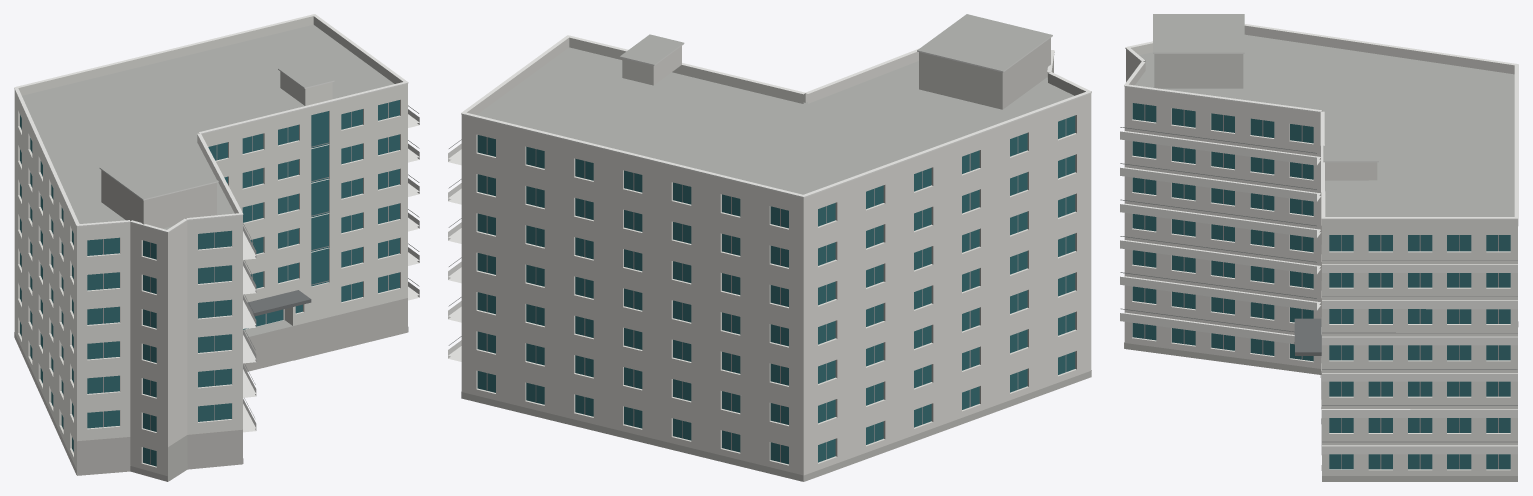
3 views of the same model, side by side, from view 1: azimuth 30°, elevation 25°; view 2: azimuth 150°, elevation 25°; view 3: azimuth 270°, elevation 25° (orthographic). The views are drawn at different scales.
Parts seen in each view (by area): view 1: industryTech__wall, industryTech__roof, industryTech__glass, industryTech__base, industryTech__parapet, industryTech__trim, industryTech__wall2, industryTech__frame, industryTech__canopy; view 2: industryTech__wall, industryTech__roof, industryTech__glass, industryTech__parapet, industryTech__trim, industryTech__wall2, industryTech__base, industryTech__frame; view 3: industryTech__wall, industryTech__roof, industryTech__trim, industryTech__glass, industryTech__parapet, industryTech__frame, industryTech__wall2, industryTech__base, industryTech__canopy.
Part boxes in pixels (x1=…): industryTech__wall: x1=14, y1=71, x2=407, y2=481; industryTech__roof: x1=22, y1=24, x2=393, y2=337; industryTech__glass: x1=20, y1=100, x2=399, y2=466; industryTech__base: x1=14, y1=298, x2=408, y2=481; industryTech__parapet: x1=14, y1=16, x2=407, y2=240; industryTech__trim: x1=14, y1=14, x2=419, y2=432; industryTech__wall2: x1=101, y1=170, x2=216, y2=228; industryTech__frame: x1=21, y1=102, x2=419, y2=464; industryTech__canopy: x1=247, y1=290, x2=311, y2=316; industryTech__wall: x1=461, y1=46, x2=1091, y2=481; industryTech__roof: x1=477, y1=14, x2=1074, y2=194; industryTech__glass: x1=477, y1=115, x2=1075, y2=464; industryTech__parapet: x1=461, y1=37, x2=1091, y2=206; industryTech__trim: x1=448, y1=35, x2=1091, y2=361; industryTech__wall2: x1=919, y1=38, x2=1050, y2=109; industryTech__base: x1=461, y1=370, x2=1091, y2=481; industryTech__frame: x1=448, y1=119, x2=1066, y2=462; industryTech__wall: x1=1124, y1=57, x2=1517, y2=475; industryTech__roof: x1=1135, y1=14, x2=1514, y2=372; industryTech__trim: x1=1120, y1=24, x2=1518, y2=454; industryTech__glass: x1=1132, y1=103, x2=1510, y2=469; industryTech__parapet: x1=1124, y1=25, x2=1518, y2=227; industryTech__frame: x1=1120, y1=104, x2=1517, y2=469; industryTech__wall2: x1=1154, y1=54, x2=1243, y2=88; industryTech__base: x1=1124, y1=321, x2=1518, y2=481; industryTech__canopy: x1=1294, y1=318, x2=1321, y2=355.
Bounding box in the file's own units: 44.5 × 28.8 × 35.82.
